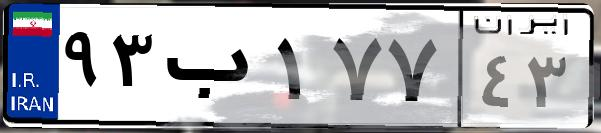1: (270, 28, 330, 110)
3: (525, 38, 570, 115), (110, 28, 158, 98)
4: (475, 38, 525, 113)
7: (385, 28, 445, 110), (330, 28, 385, 110)
9: (57, 26, 110, 100)
ب: (158, 20, 270, 120)
